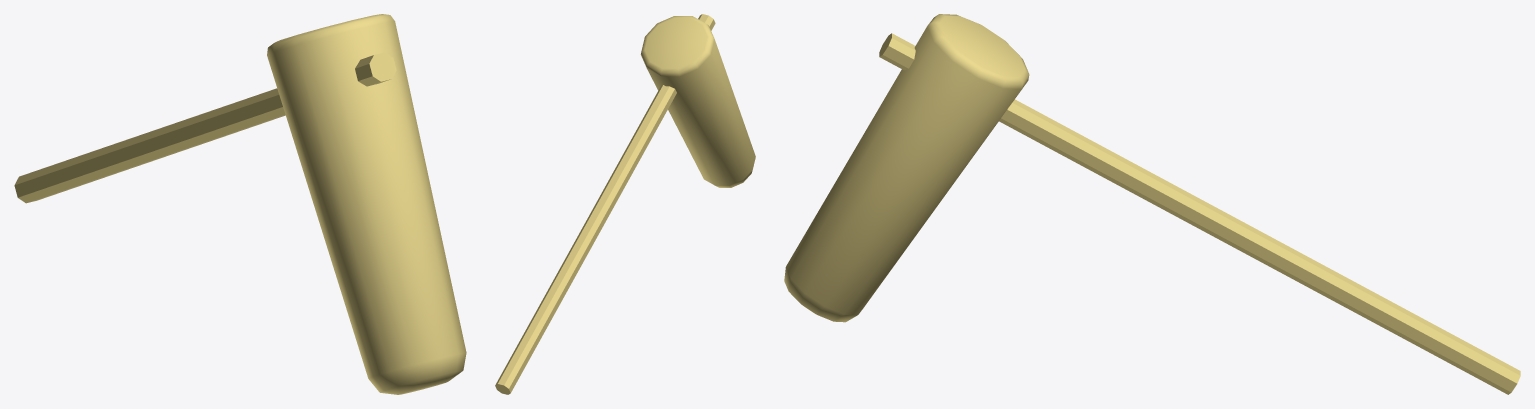
Rendered from kine.fbx.
The picture shows the model from 3 angles, left to right: view 1: azimuth 30°, elevation 25°; view 2: azimuth 150°, elevation 25°; view 3: azimuth 270°, elevation 25°; orthographic projection. The views are drawn at different scales.
Visible parts, largest first — view 1: 円.000; view 2: 円.000; view 3: 円.000.
Part boxes in pixels (x1=…): 円.000: x1=14, y1=14, x2=466, y2=394; 円.000: x1=495, y1=14, x2=755, y2=394; 円.000: x1=784, y1=14, x2=1520, y2=394.
Size of the model in its own units: 46.71 by 162 by 292.
